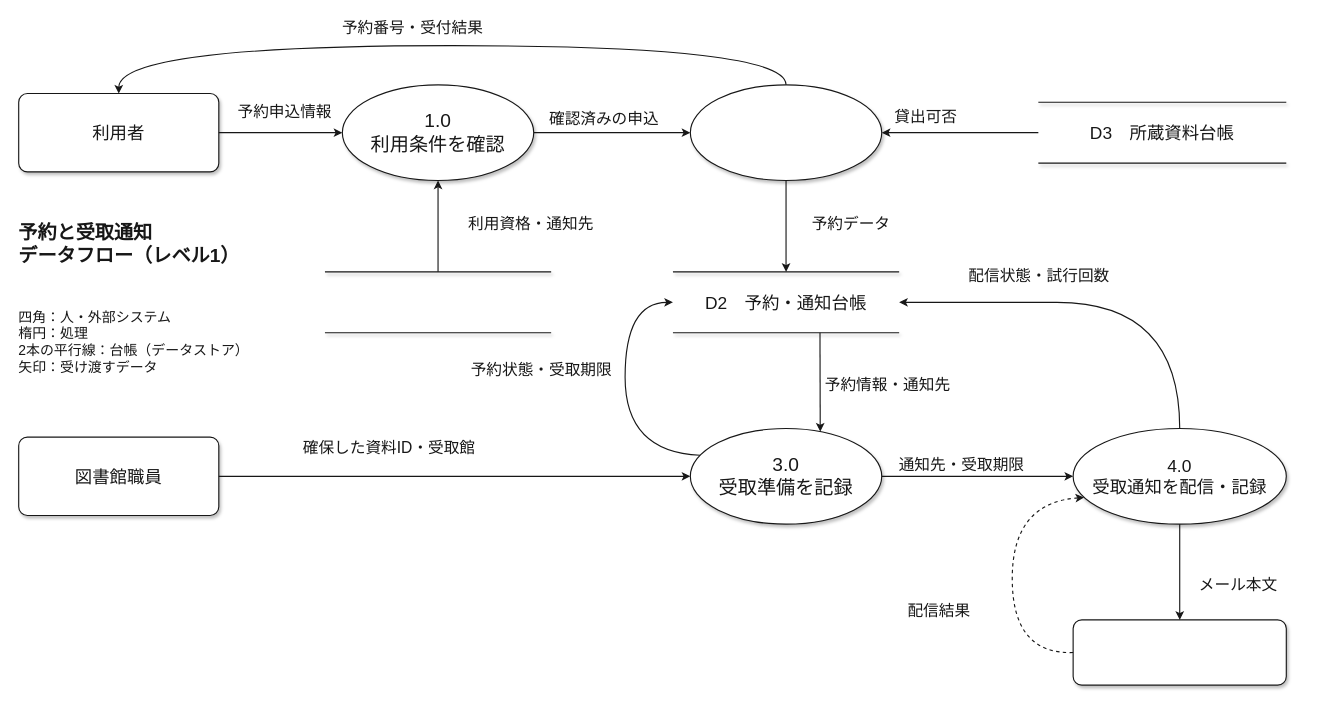
This 1323x706 diagram has some shape labels left out. The shapes that lost their labels are listed below. From the top down, each one's centre as x and y in pixels, then its label:
At point (786, 133): "2.0 予約を登録".
At point (438, 301): "D1 利用者台帳".
At point (1180, 653): "メール配信サービス".
